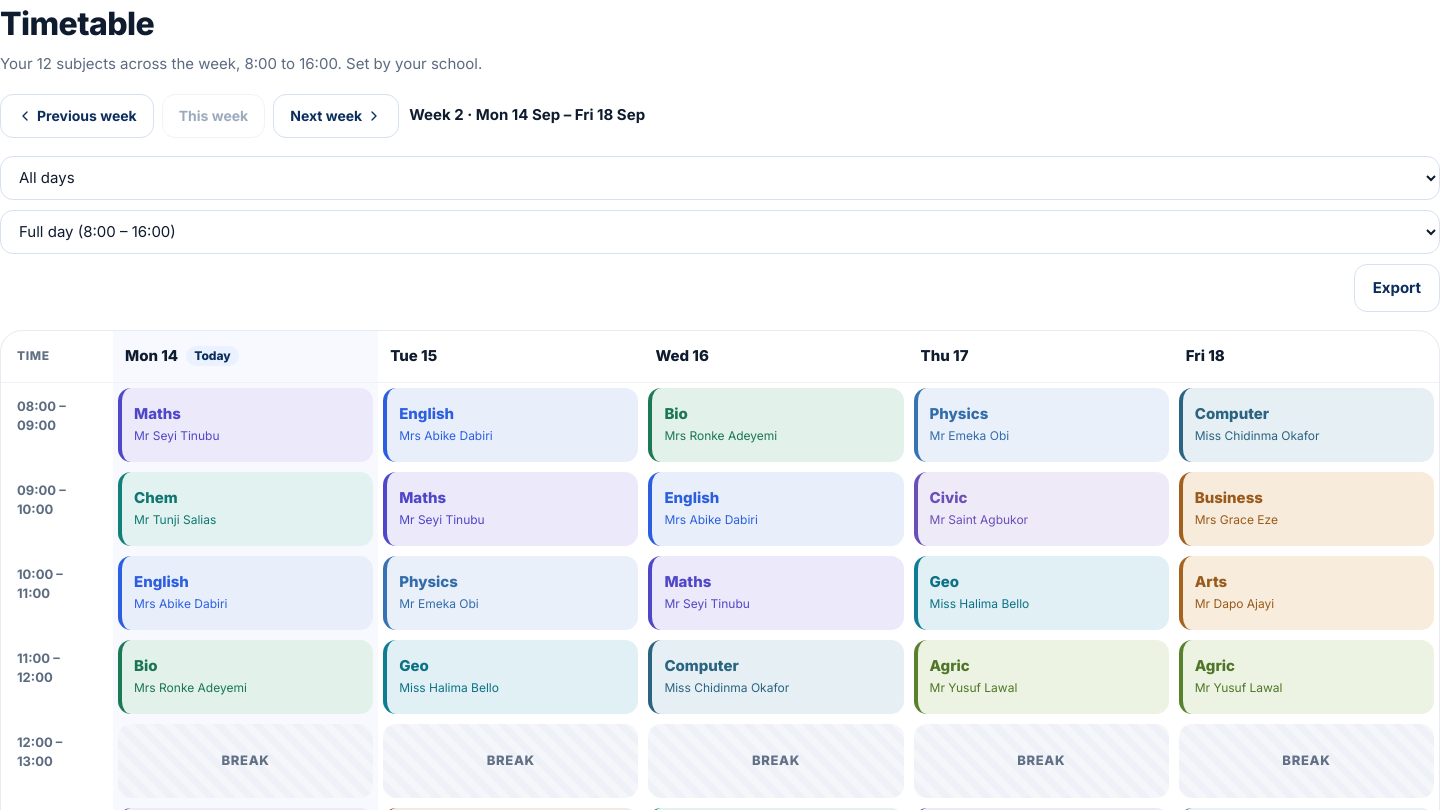
Scenario: Timetable screen › narrows the grid to one day
This screenshot has width=1440, height=810.
Select "Tuesday" in the dropdown named "Show one day only": (720, 178) [0,156,1439,200]
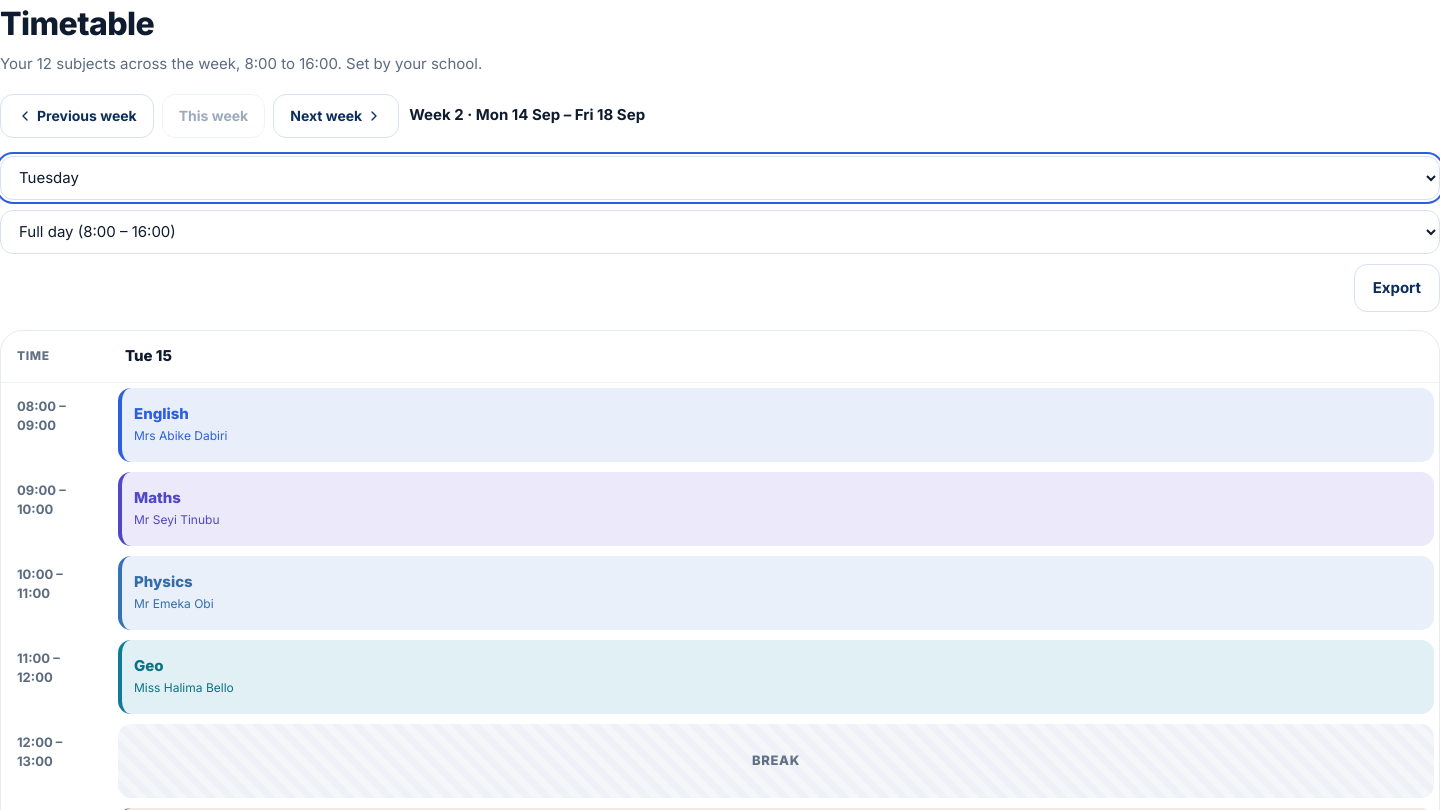
Expected: the column headings read "Time", "Tue 15", in this order, [1,331,113,382]; [113,331,1439,382]
Now the number of links is 7
